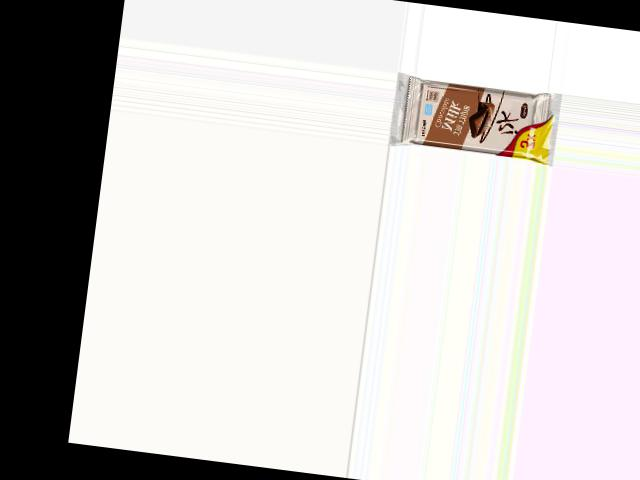chocolate: (404, 73, 562, 165)
